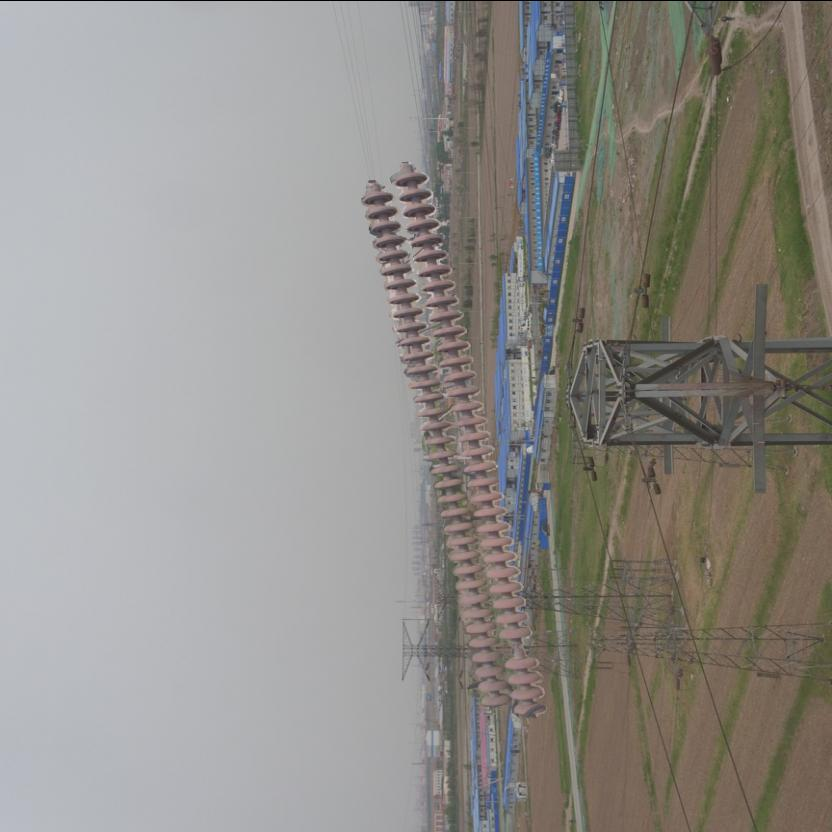defect: (496, 626, 540, 673)
